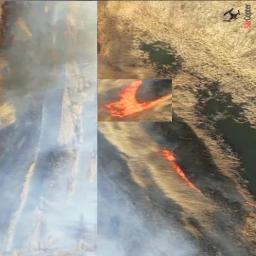Low smoke: (2, 0, 97, 255)
Small fire: (154, 140, 217, 210), (98, 78, 172, 117)
